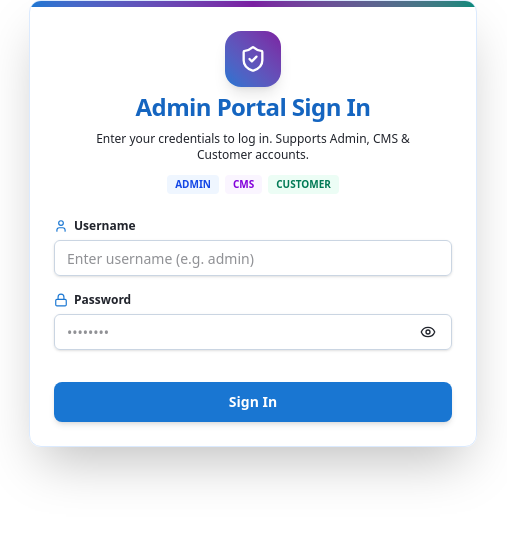
Test: LoginForm › displays validation error when submitting empty fields
What coordinates should you click on to do the following:
click the button "Sign In"
I would click on:
 (253, 402)
Its box is [54,382,452,422].
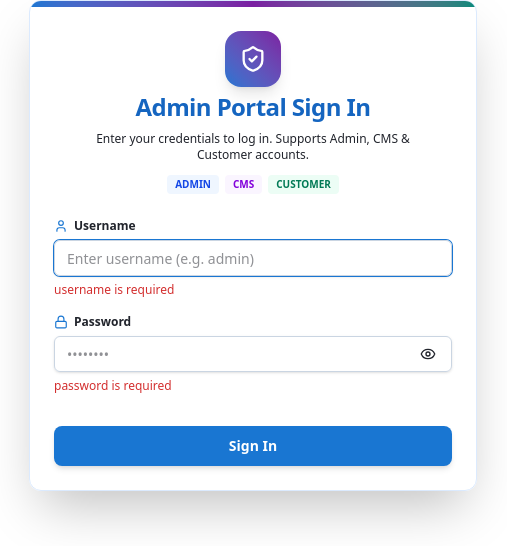
expect the text "username is required" is shown: met, box [54,281,174,298]
expect the text "password is required" is shown: met, box [54,377,172,394]
